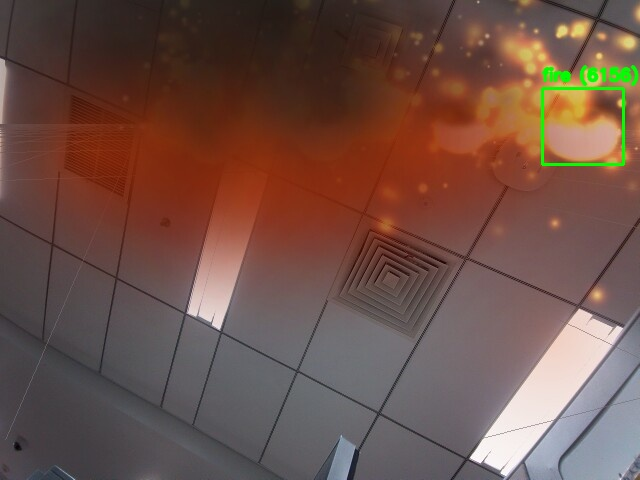fire: (542, 88, 623, 164)
